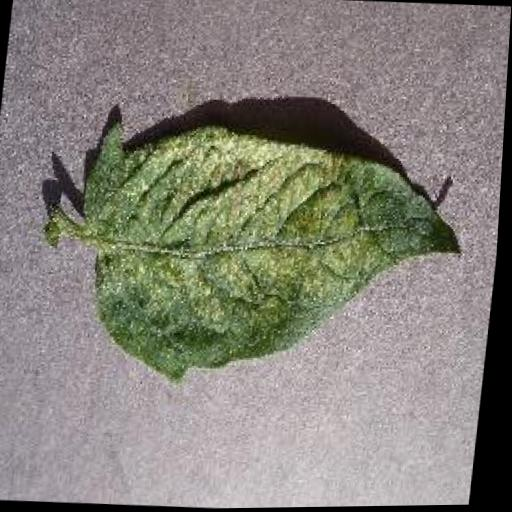Spider Mites: (71, 108, 485, 399)
